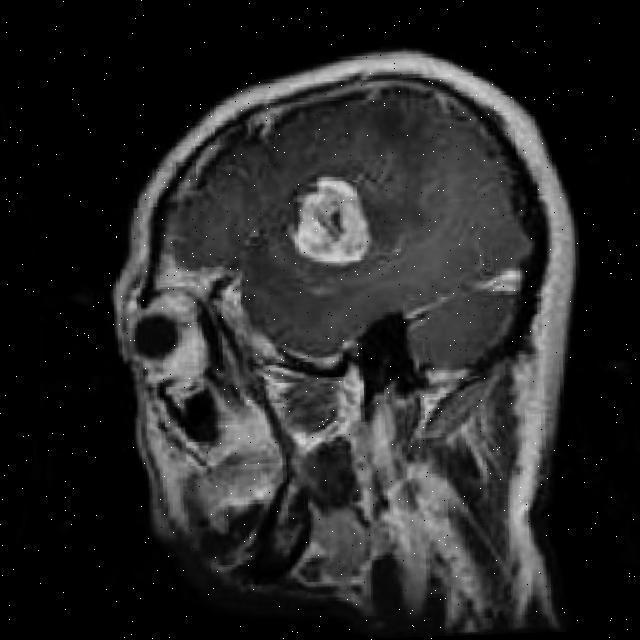EMCI: (280, 168, 410, 276)
